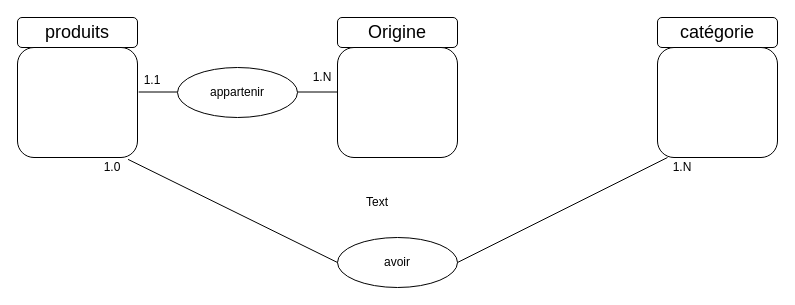
This 795x305 diagram has some shape labels left out. The box of each missing label's shape, as (x1, y1, x2, y2) in pixels:
catégorie-ref nom: (656, 46, 778, 158)
origine-ref nom: (336, 46, 458, 158)
produit_ref name description référence prix disponibilité: (16, 46, 138, 158)
